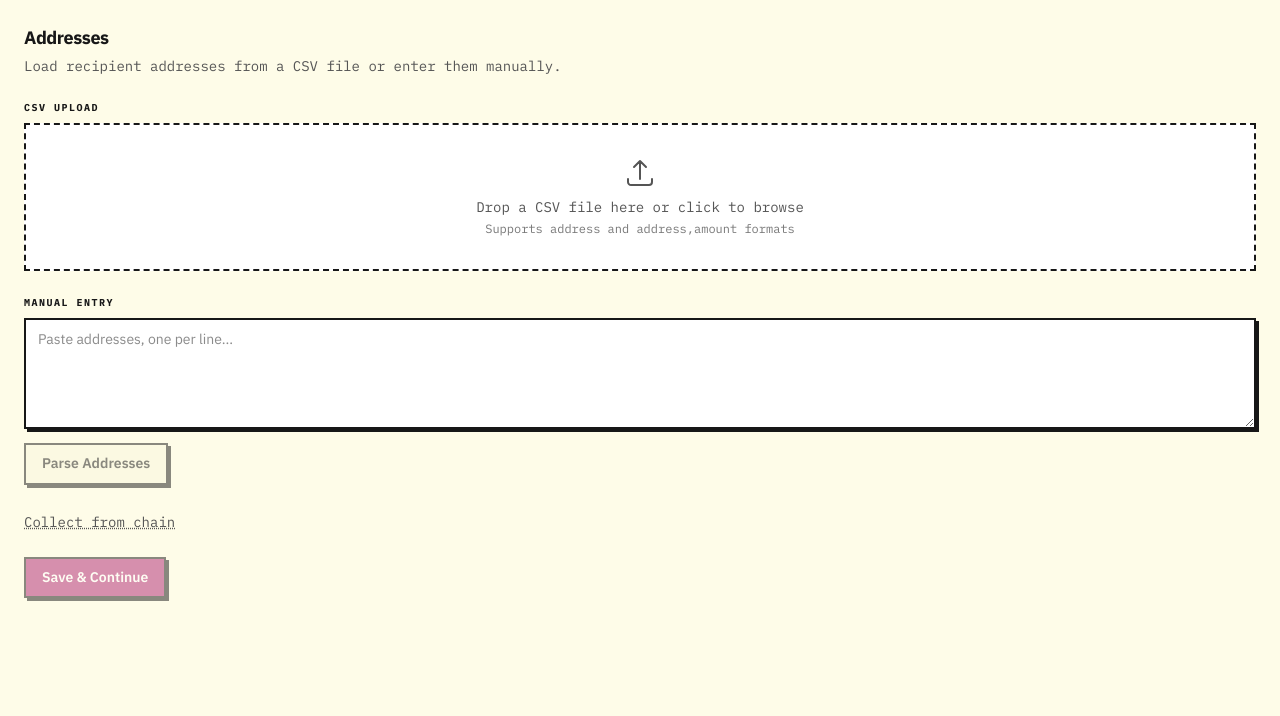
Test: AddressesStep › shows block scan params when on-chain collection is expanded
This screenshot has width=1280, height=716.
Click the button "Collect from chain": x=100, y=522 [24,512,175,532]
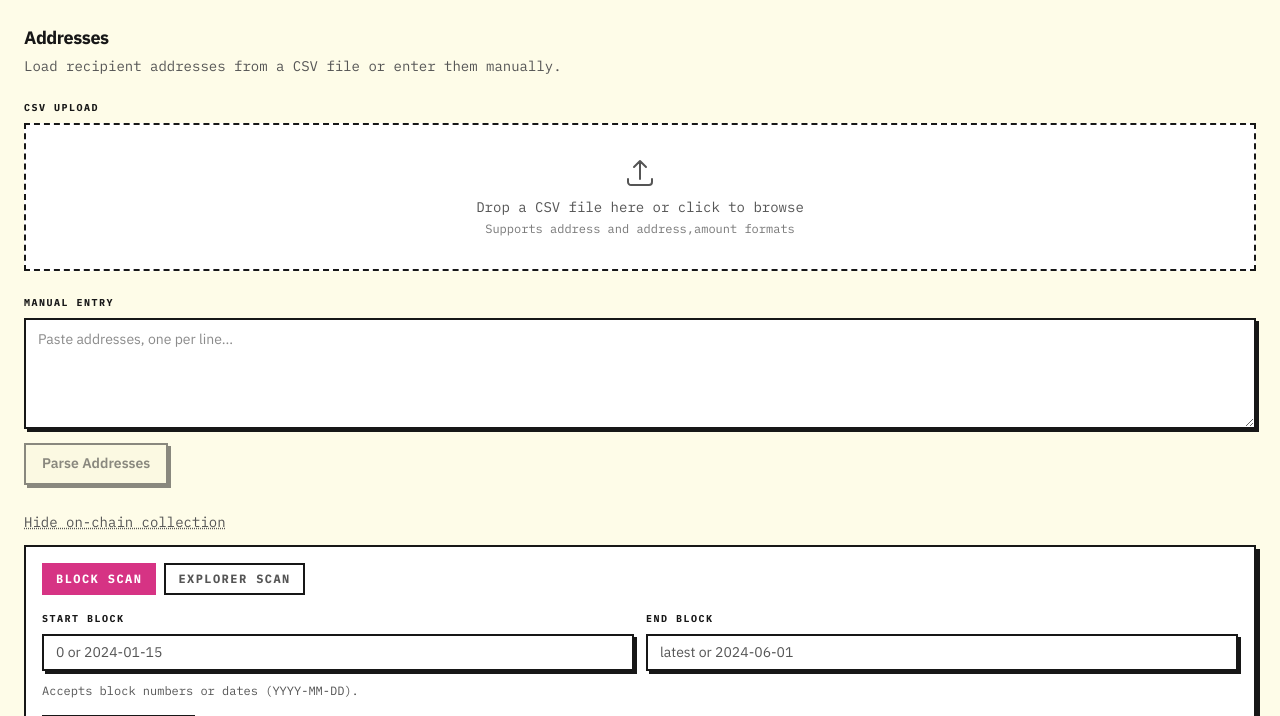
Now the button "Block Scan" is shown, box [42,562,156,594]
Now the button "Explorer Scan" is shown, box [164,562,305,594]
Now the text "Start Block" is shown, box [42,612,124,624]
